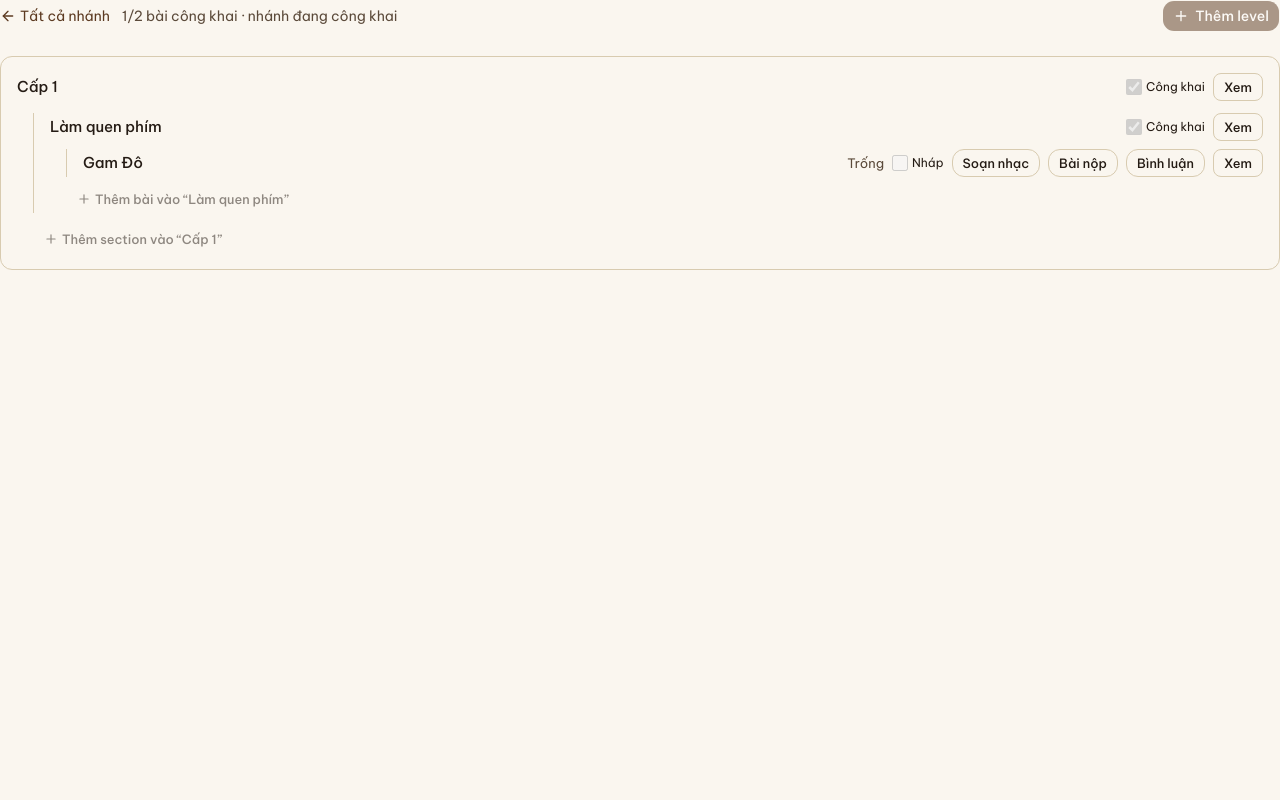
Test: Trình soạn cây một nhánh › EDITOR chỉ xem: không có nút thêm/sửa/xoá/đổi thứ tự, form bài bị khoá và không upload được
The image size is (1280, 800).
Expected: the button "Thêm level" is disabled, [1162,0,1279,32]
Click the button with aria-label "Xem Gam Đô": (1238, 163) [1213,149,1263,177]
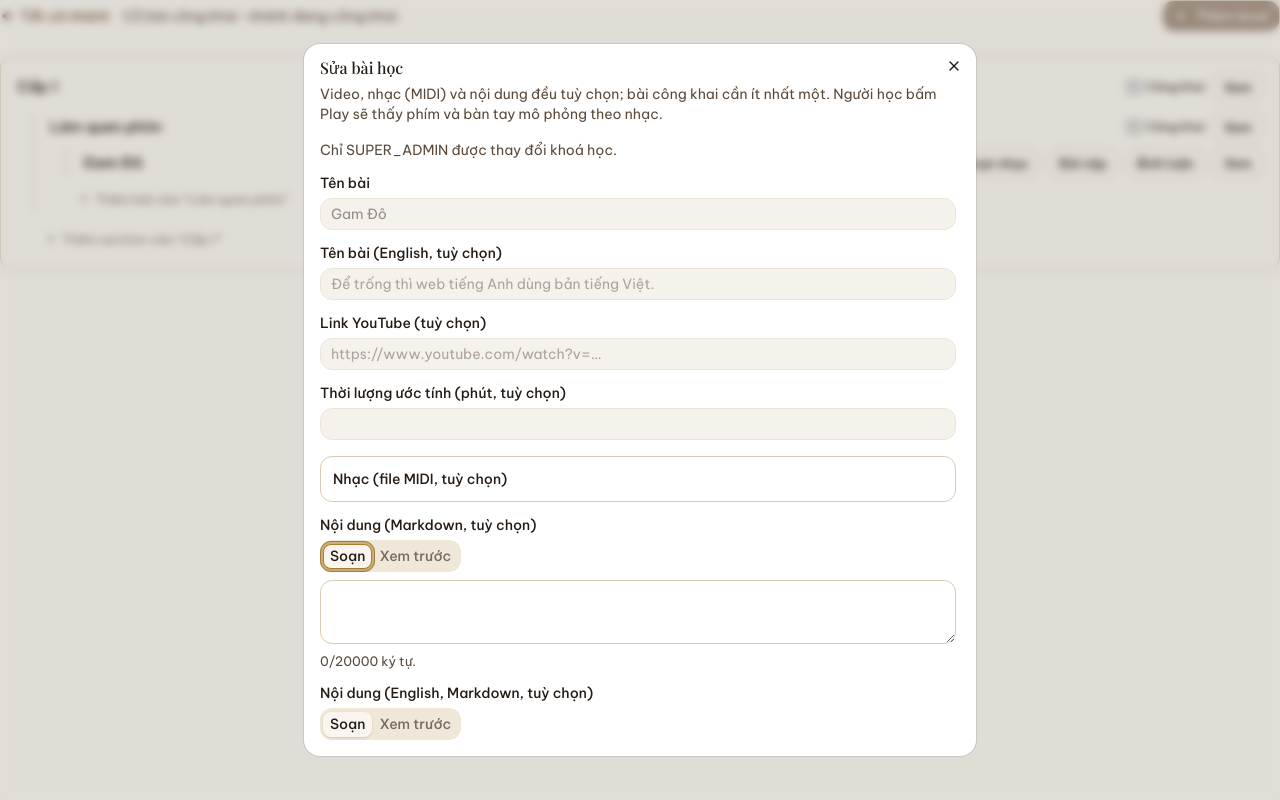
Expected: the field labelled "Tên bài" is disabled, [320,198,956,230]
